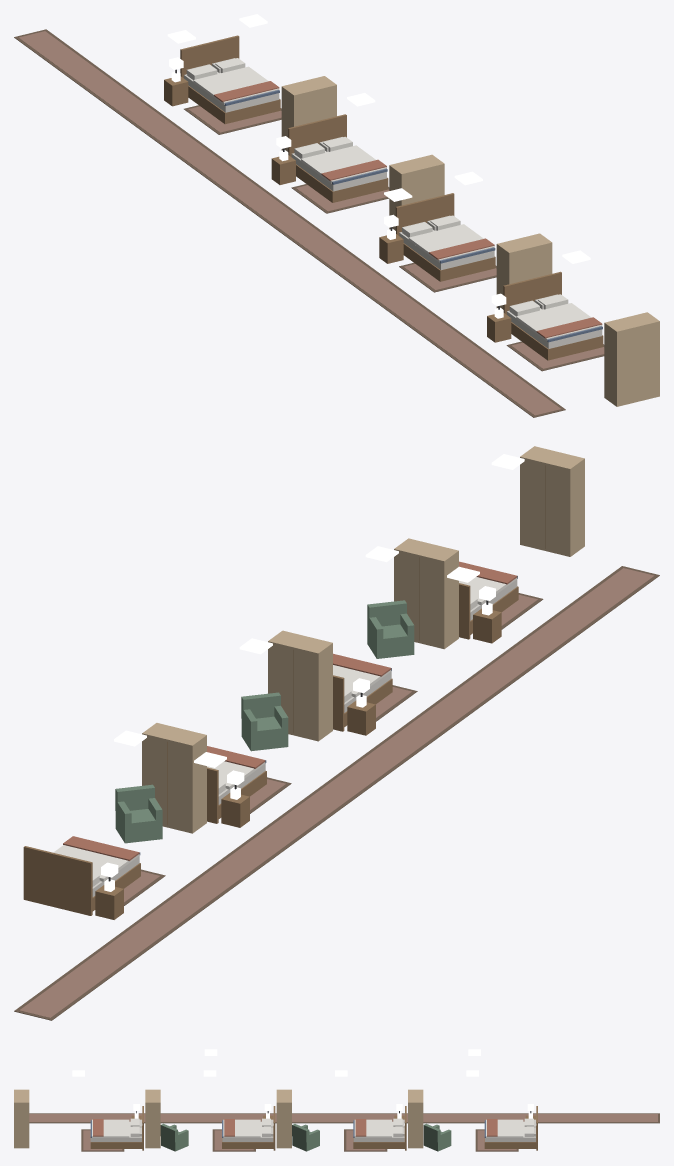
File: fine-s1.glb
3 views of the same model, one above another, from view 1: azimuth 30°, elevation 25°; view 2: azimuth 150°, elevation 25°; view 3: azimuth 270°, elevation 25° (orthographic). The views are drawn at different scales.
Visible parts, largest first — view 1: soft-s1, dresser.003, bed-frame.000, bed-frame.002, bed-frame.003, bed-frame.001, dresser.002, dresser.000, dresser.001, nightstand.000, nightstand.001, nightstand.003 (+1 smaller); view 2: soft-s1, dresser.003, dresser.001, dresser.002, dresser.000, bed-frame.000, lounge-chair.000, lounge-chair.001, lounge-chair.002, bed-frame.002, bed-frame.001, bed-frame.003 (+4 smaller); view 3: soft-s1, dresser.002, dresser.000, dresser.001, dresser.003, bed-frame.002, bed-frame.003, bed-frame.001, bed-frame.000, lounge-chair.000, lounge-chair.002, lounge-chair.001.
Boxes of the visible parts, x1,y1,x2,y2 form: soft-s1: (14,29,604,417); dresser.003: (604,312,659,406); bed-frame.000: (180,35,280,124); bed-frame.002: (395,193,495,281); bed-frame.003: (503,271,603,360); bed-frame.001: (288,114,388,202); dresser.002: (496,233,552,309); dresser.000: (281,76,336,151); dresser.001: (389,154,444,230); nightstand.000: (164,71,188,106); nightstand.001: (271,150,295,184); nightstand.003: (487,307,511,342); soft-s1: (14,561,659,1020); dresser.003: (520,446,584,556); dresser.001: (268,630,332,741); dresser.002: (394,538,458,649); dresser.000: (142,723,206,833); bed-frame.000: (23,846,140,915); lounge-chair.000: (115,784,162,843); lounge-chair.001: (241,692,288,751); lounge-chair.002: (367,600,414,658); bed-frame.002: (333,668,392,731); bed-frame.001: (207,760,266,823); bed-frame.003: (459,576,518,639); soft-s1: (29,1104,659,1151); dresser.002: (145,1089,160,1148); dresser.000: (408,1089,423,1148); dresser.001: (276,1089,291,1148); dresser.003: (14,1089,29,1148); bed-frame.002: (222,1106,275,1150); bed-frame.003: (90,1106,143,1150); bed-frame.001: (353,1106,406,1150); bed-frame.000: (484,1106,537,1150); lounge-chair.000: (423,1123,451,1151); lounge-chair.002: (160,1123,188,1151); lounge-chair.001: (292,1124,319,1151).
Size of the model in its own units: 3.55 by 2.9 by 25.51.
